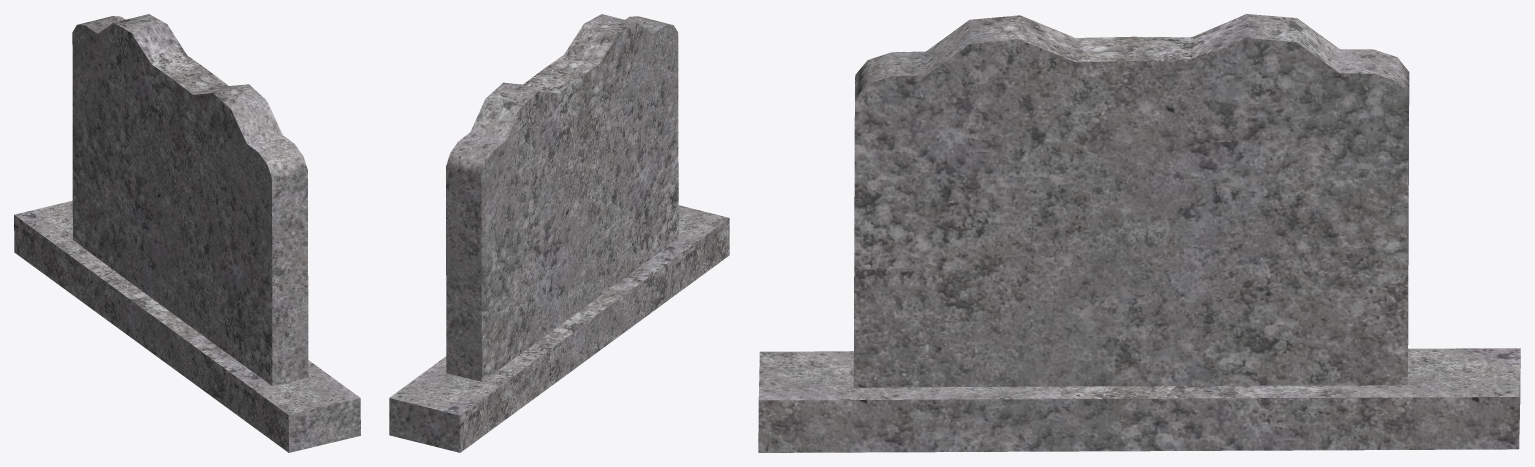
Rendered from TombstoneGeneric_2.fbx.
3 renders of one model, left to right at view 1: azimuth 30°, elevation 25°; view 2: azimuth 150°, elevation 25°; view 3: azimuth 270°, elevation 25°, orthographic. The views are drawn at different scales.
Visible parts, largest first — view 1: polySurface24; view 2: polySurface24; view 3: polySurface24.
Boxes of the visible parts, x1,y1,x2,y2 form: polySurface24: [14, 14, 360, 452]; polySurface24: [389, 14, 729, 452]; polySurface24: [758, 14, 1520, 452].
Size of the model in its own units: 7.55 by 28.22 by 48.48.
1 material, 1 textured.
